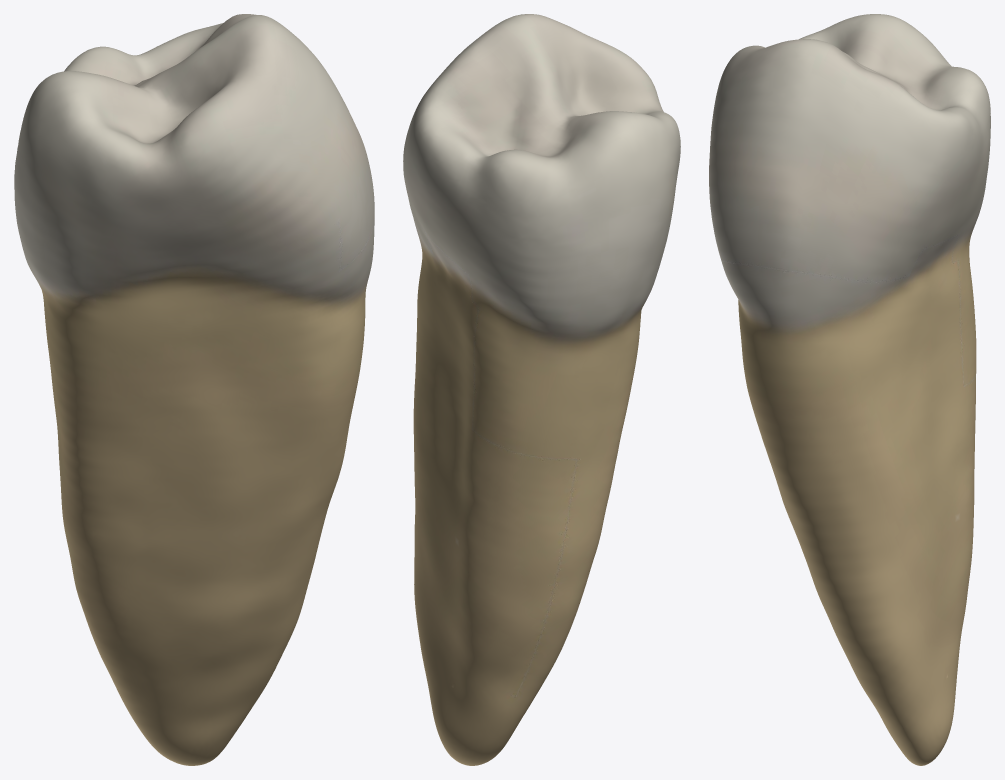
3 renders of one model, left to right at view 1: azimuth 30°, elevation 25°; view 2: azimuth 150°, elevation 25°; view 3: azimuth 270°, elevation 25°, orthographic. The views are drawn at different scales.
Parts seen in each view (by area): view 1: diente-35; view 2: diente-35; view 3: diente-35.
Boxes of the visible parts, x1=… form: diente-35: x1=14, y1=14, x2=374, y2=765; diente-35: x1=403, y1=14, x2=680, y2=765; diente-35: x1=709, y1=14, x2=990, y2=765.
Bounding box in the file's own units: 0.00882 × 0.0225 × 0.00796.
Materials: 1 (1 with a texture image).
